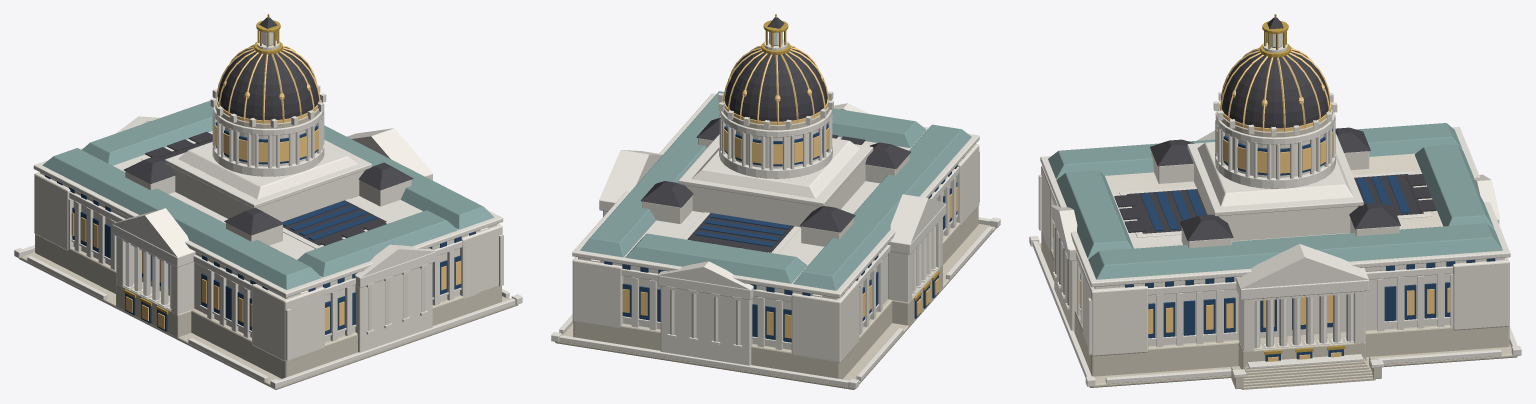
Rendered from city-hall.glb.
3 renders of one model, left to right at view 1: azimuth 30°, elevation 25°; view 2: azimuth 150°, elevation 25°; view 3: azimuth 270°, elevation 25°, orthographic. The views are drawn at different scales.
Parts seen in each view (by area): view 1: CityHall_trim, CityHall_cream, CityHall_roofc, CityHall_stone, CityHall_roofd, CityHall_gold_Glow, CityHall_glass, CityHall_gold; view 2: CityHall_trim, CityHall_cream, CityHall_roofc, CityHall_roofd, CityHall_stone, CityHall_gold_Glow, CityHall_glass, CityHall_gold; view 3: CityHall_trim, CityHall_roofc, CityHall_cream, CityHall_stone, CityHall_roofd, CityHall_glass, CityHall_gold_Glow, CityHall_sand, CityHall_gold.
Part boxes in pixels (box(x1,y1,x2,y2)): CityHall_trim: box(14, 40, 522, 388); CityHall_cream: box(34, 124, 502, 361); CityHall_roofc: box(42, 100, 494, 289); CityHall_stone: box(19, 98, 518, 389); CityHall_roofd: box(123, 17, 413, 245); CityHall_gold_Glow: box(71, 44, 461, 330); CityHall_glass: box(45, 44, 475, 334); CityHall_gold: box(124, 14, 282, 314); CityHall_trim: box(551, 39, 1000, 388); CityHall_cream: box(572, 123, 979, 365); CityHall_roofc: box(580, 91, 971, 290); CityHall_roofd: box(641, 17, 910, 252); CityHall_stone: box(555, 99, 996, 389); CityHall_gold_Glow: box(622, 45, 958, 338); CityHall_glass: box(604, 45, 964, 342); CityHall_gold: box(761, 14, 939, 300); CityHall_trim: box(1029, 43, 1521, 386); CityHall_roofc: box(1048, 123, 1502, 279); CityHall_cream: box(1041, 133, 1509, 356); CityHall_stone: box(1039, 102, 1517, 389); CityHall_roofd: box(1114, 17, 1436, 241); CityHall_glass: box(1080, 46, 1495, 361); CityHall_gold_Glow: box(1052, 47, 1450, 361); CityHall_sand: box(1106, 154, 1441, 248); CityHall_gold: box(1260, 14, 1345, 354).
Bounding box in the file's own units: 123 × 93.75 × 145.
